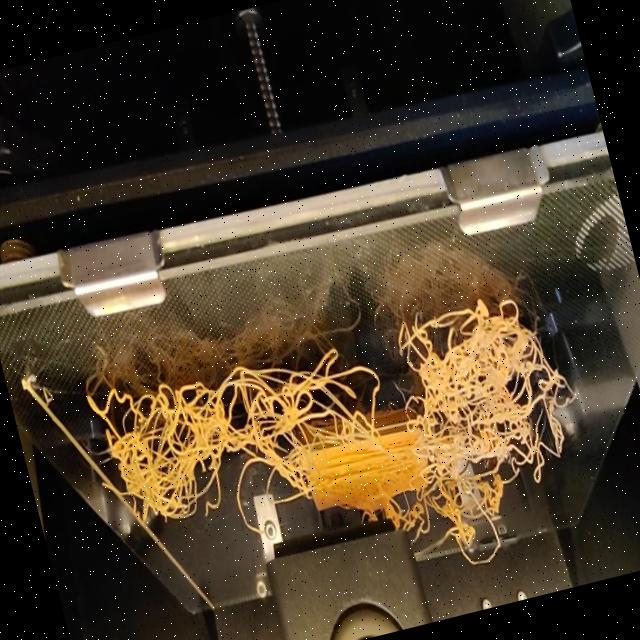spaghetti: (72, 266, 606, 584), (400, 482, 532, 588)
